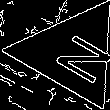N_NW: (36, 23, 107, 84)
